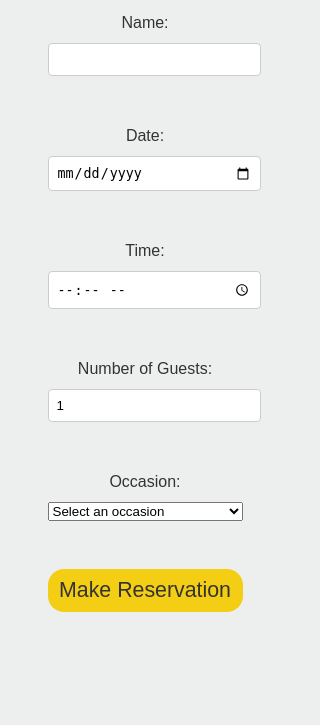
Test: ReservationForm › validates number of guests
The image size is (320, 725).
Replace the text in the number field labelled "Number of Guests:" with "0": x=154, y=406 [48,389,260,422]
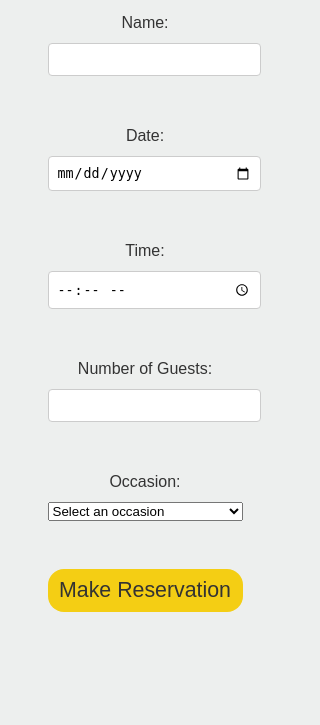
Click the button "Make Reservation": x=145, y=591 [48,569,242,612]
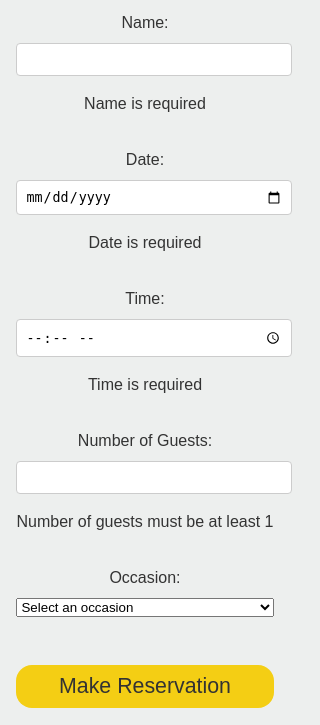
Now the text "Number of guests must be at least 1" is shown, box [16,510,274,534]
